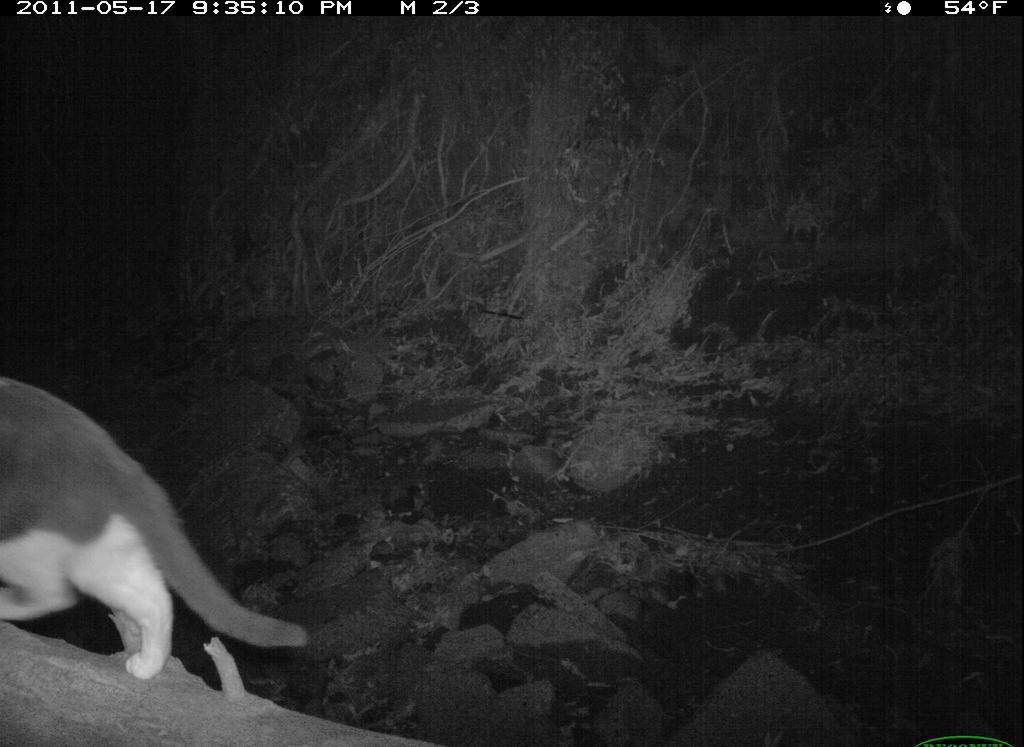cat: (1, 365, 318, 688)
